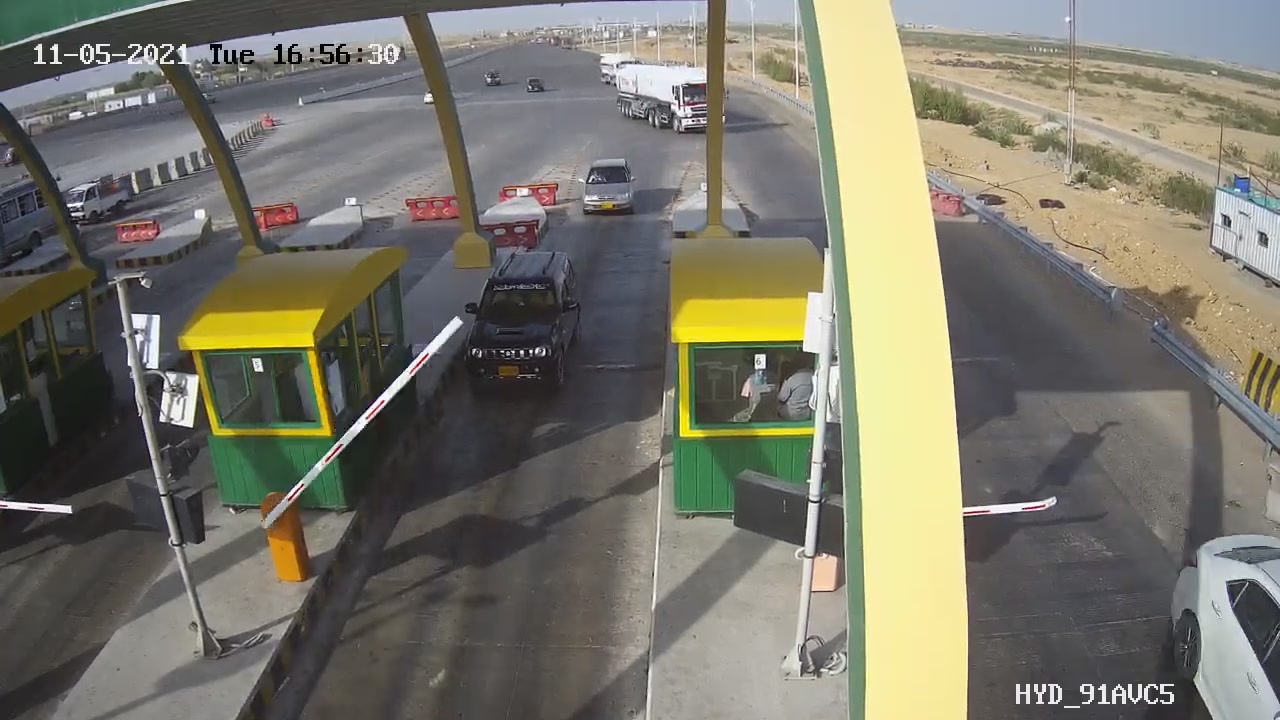F1: (448, 237, 601, 411)
